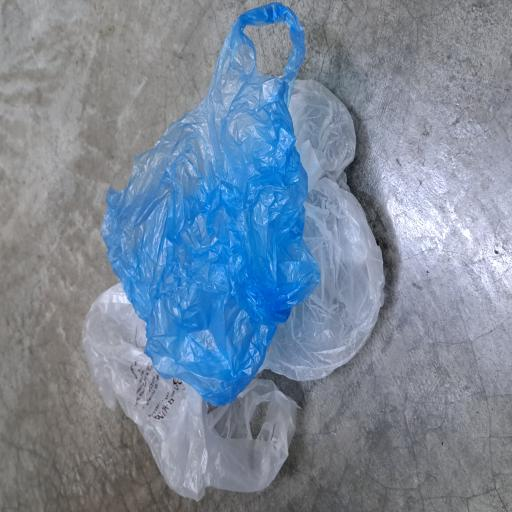plastic bag: (84, 133, 384, 431), (10, 106, 176, 404), (96, 343, 328, 512)
